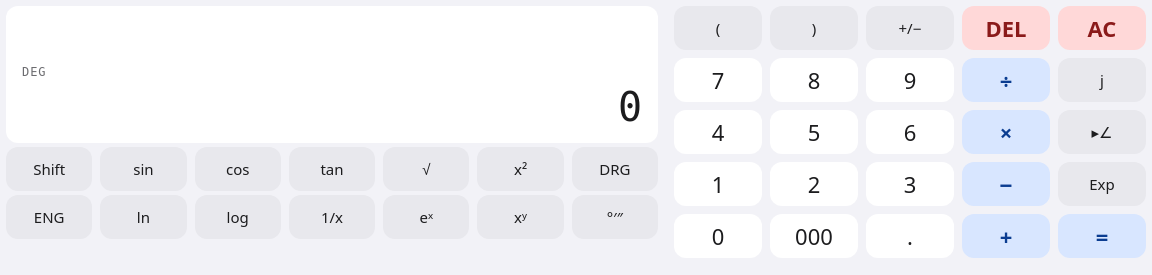
Scenario: 設定の永続化 › does not store anything the user typed
The image size is (1152, 275).
Expected: the text "DEG" is shown, top-left (22, 65), bottom-right (47, 79)
Note: 設定を 1 つ変える。保存キーはここで初めて生まれる。
Click the button with aria-label "角度の単位を切り替え": (615, 169) top-left (572, 147), bottom-right (658, 191)
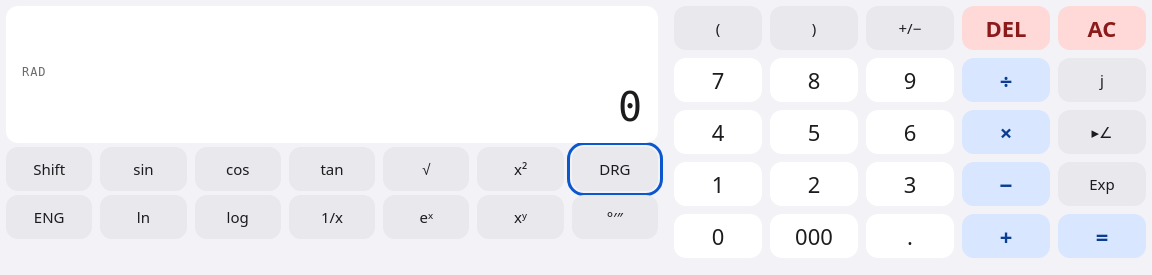
Now the text "RAD" is shown, box top-left (22, 65), bottom-right (47, 79)
Click the button "1": (718, 184) top-left (674, 162), bottom-right (762, 206)
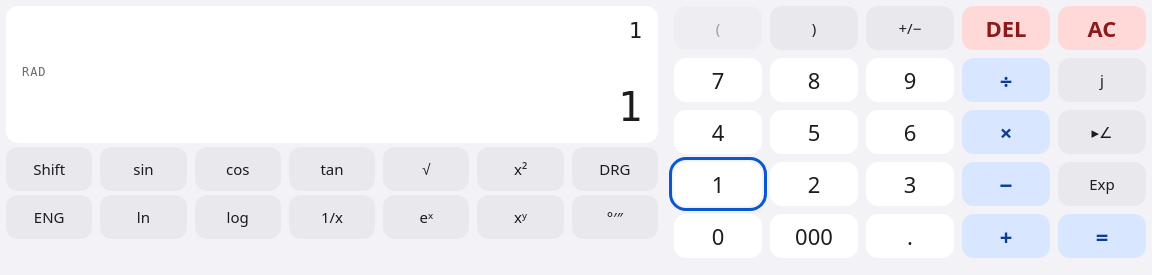
Click the button "2": (814, 184) top-left (770, 162), bottom-right (858, 206)
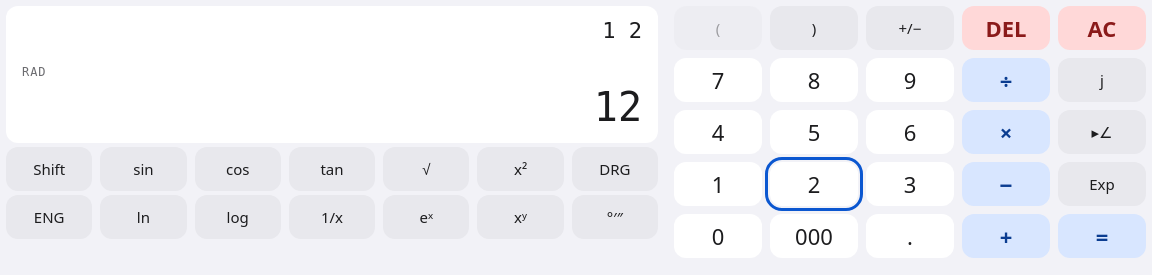
Click the button "3": (910, 184) top-left (866, 162), bottom-right (954, 206)
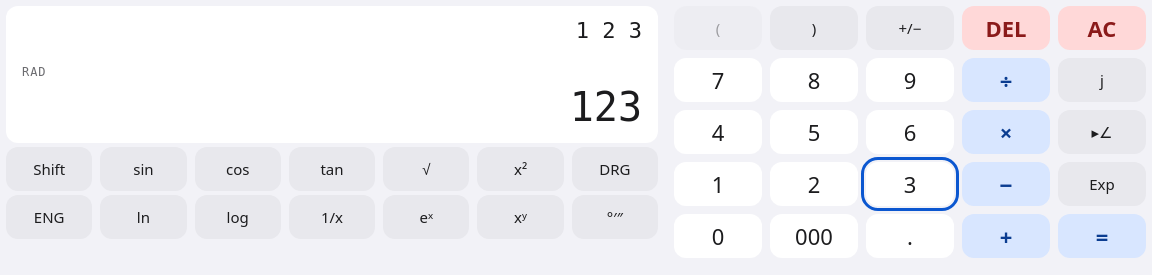
Now the text with test id "display-main" reads "123", box top-left (570, 84), bottom-right (642, 130)
